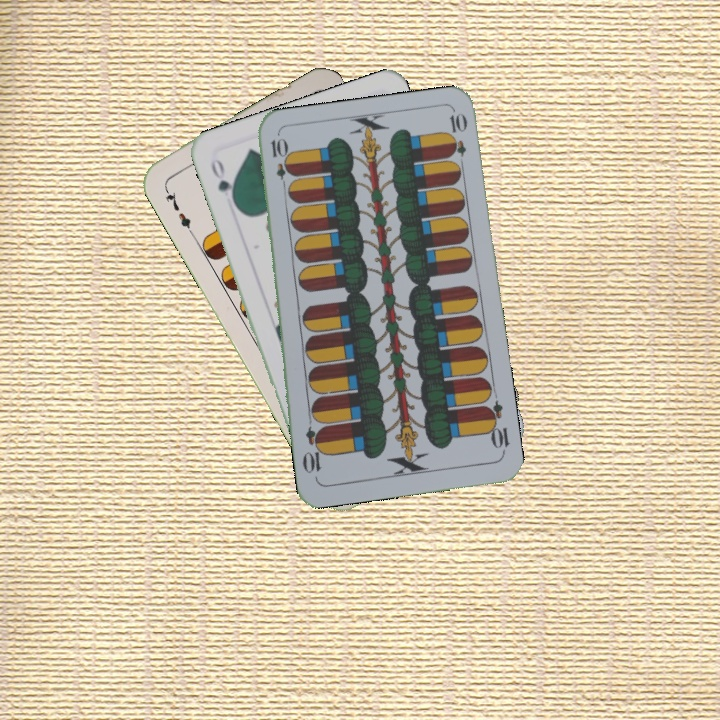E10: (480, 398, 512, 457), (267, 134, 291, 193)
E7: (160, 183, 196, 237)
GO: (206, 155, 239, 209)
